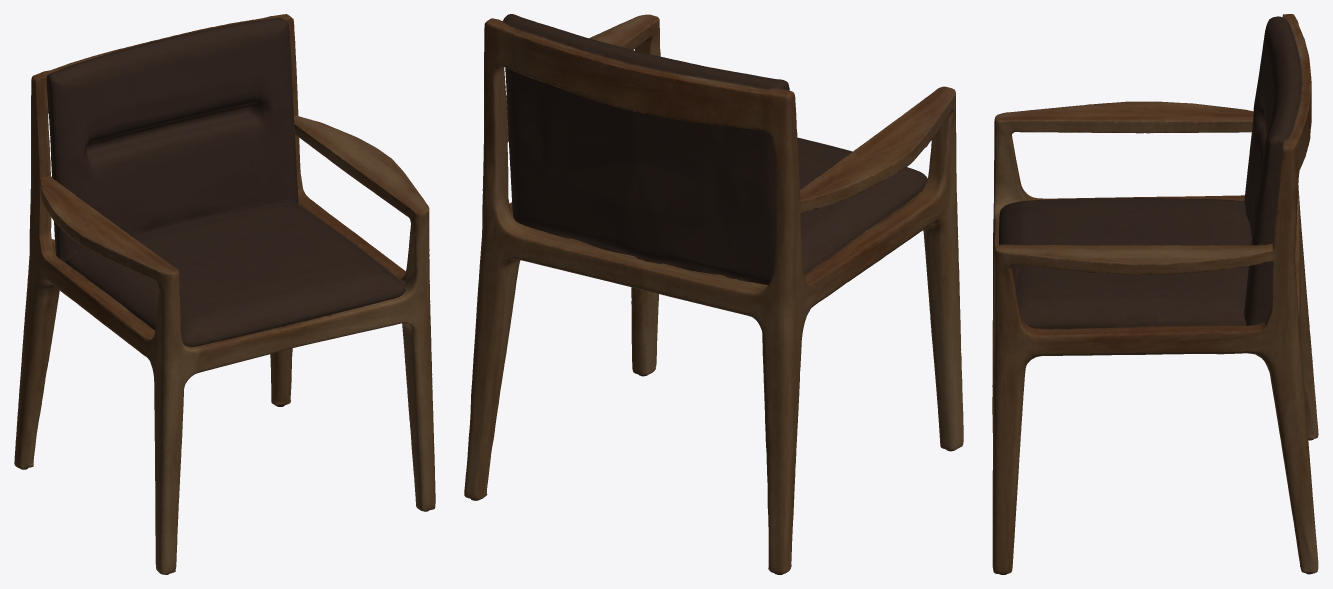
Rendered from modern_armchair_zkdt0z.glb.
3 views of the same model, side by side, from view 1: azimuth 30°, elevation 25°; view 2: azimuth 150°, elevation 25°; view 3: azimuth 270°, elevation 25° (orthographic). The views are drawn at different scales.
Parts seen in each view (by area): view 1: world; view 2: world; view 3: world.
Boxes of the visible parts, left/top/right/bottom form: world: left=14, top=14, right=435, bottom=574; world: left=464, top=14, right=963, bottom=574; world: left=992, top=14, right=1318, bottom=574.
Bounding box in the file's own units: 0.8135 × 1 × 0.6884.
Materials: 1 (1 with a texture image).
